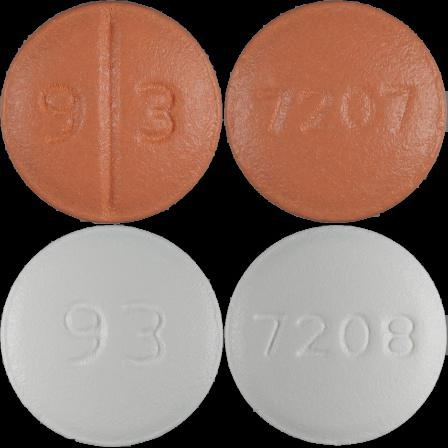0093-7207: (0, 0, 224, 224)
